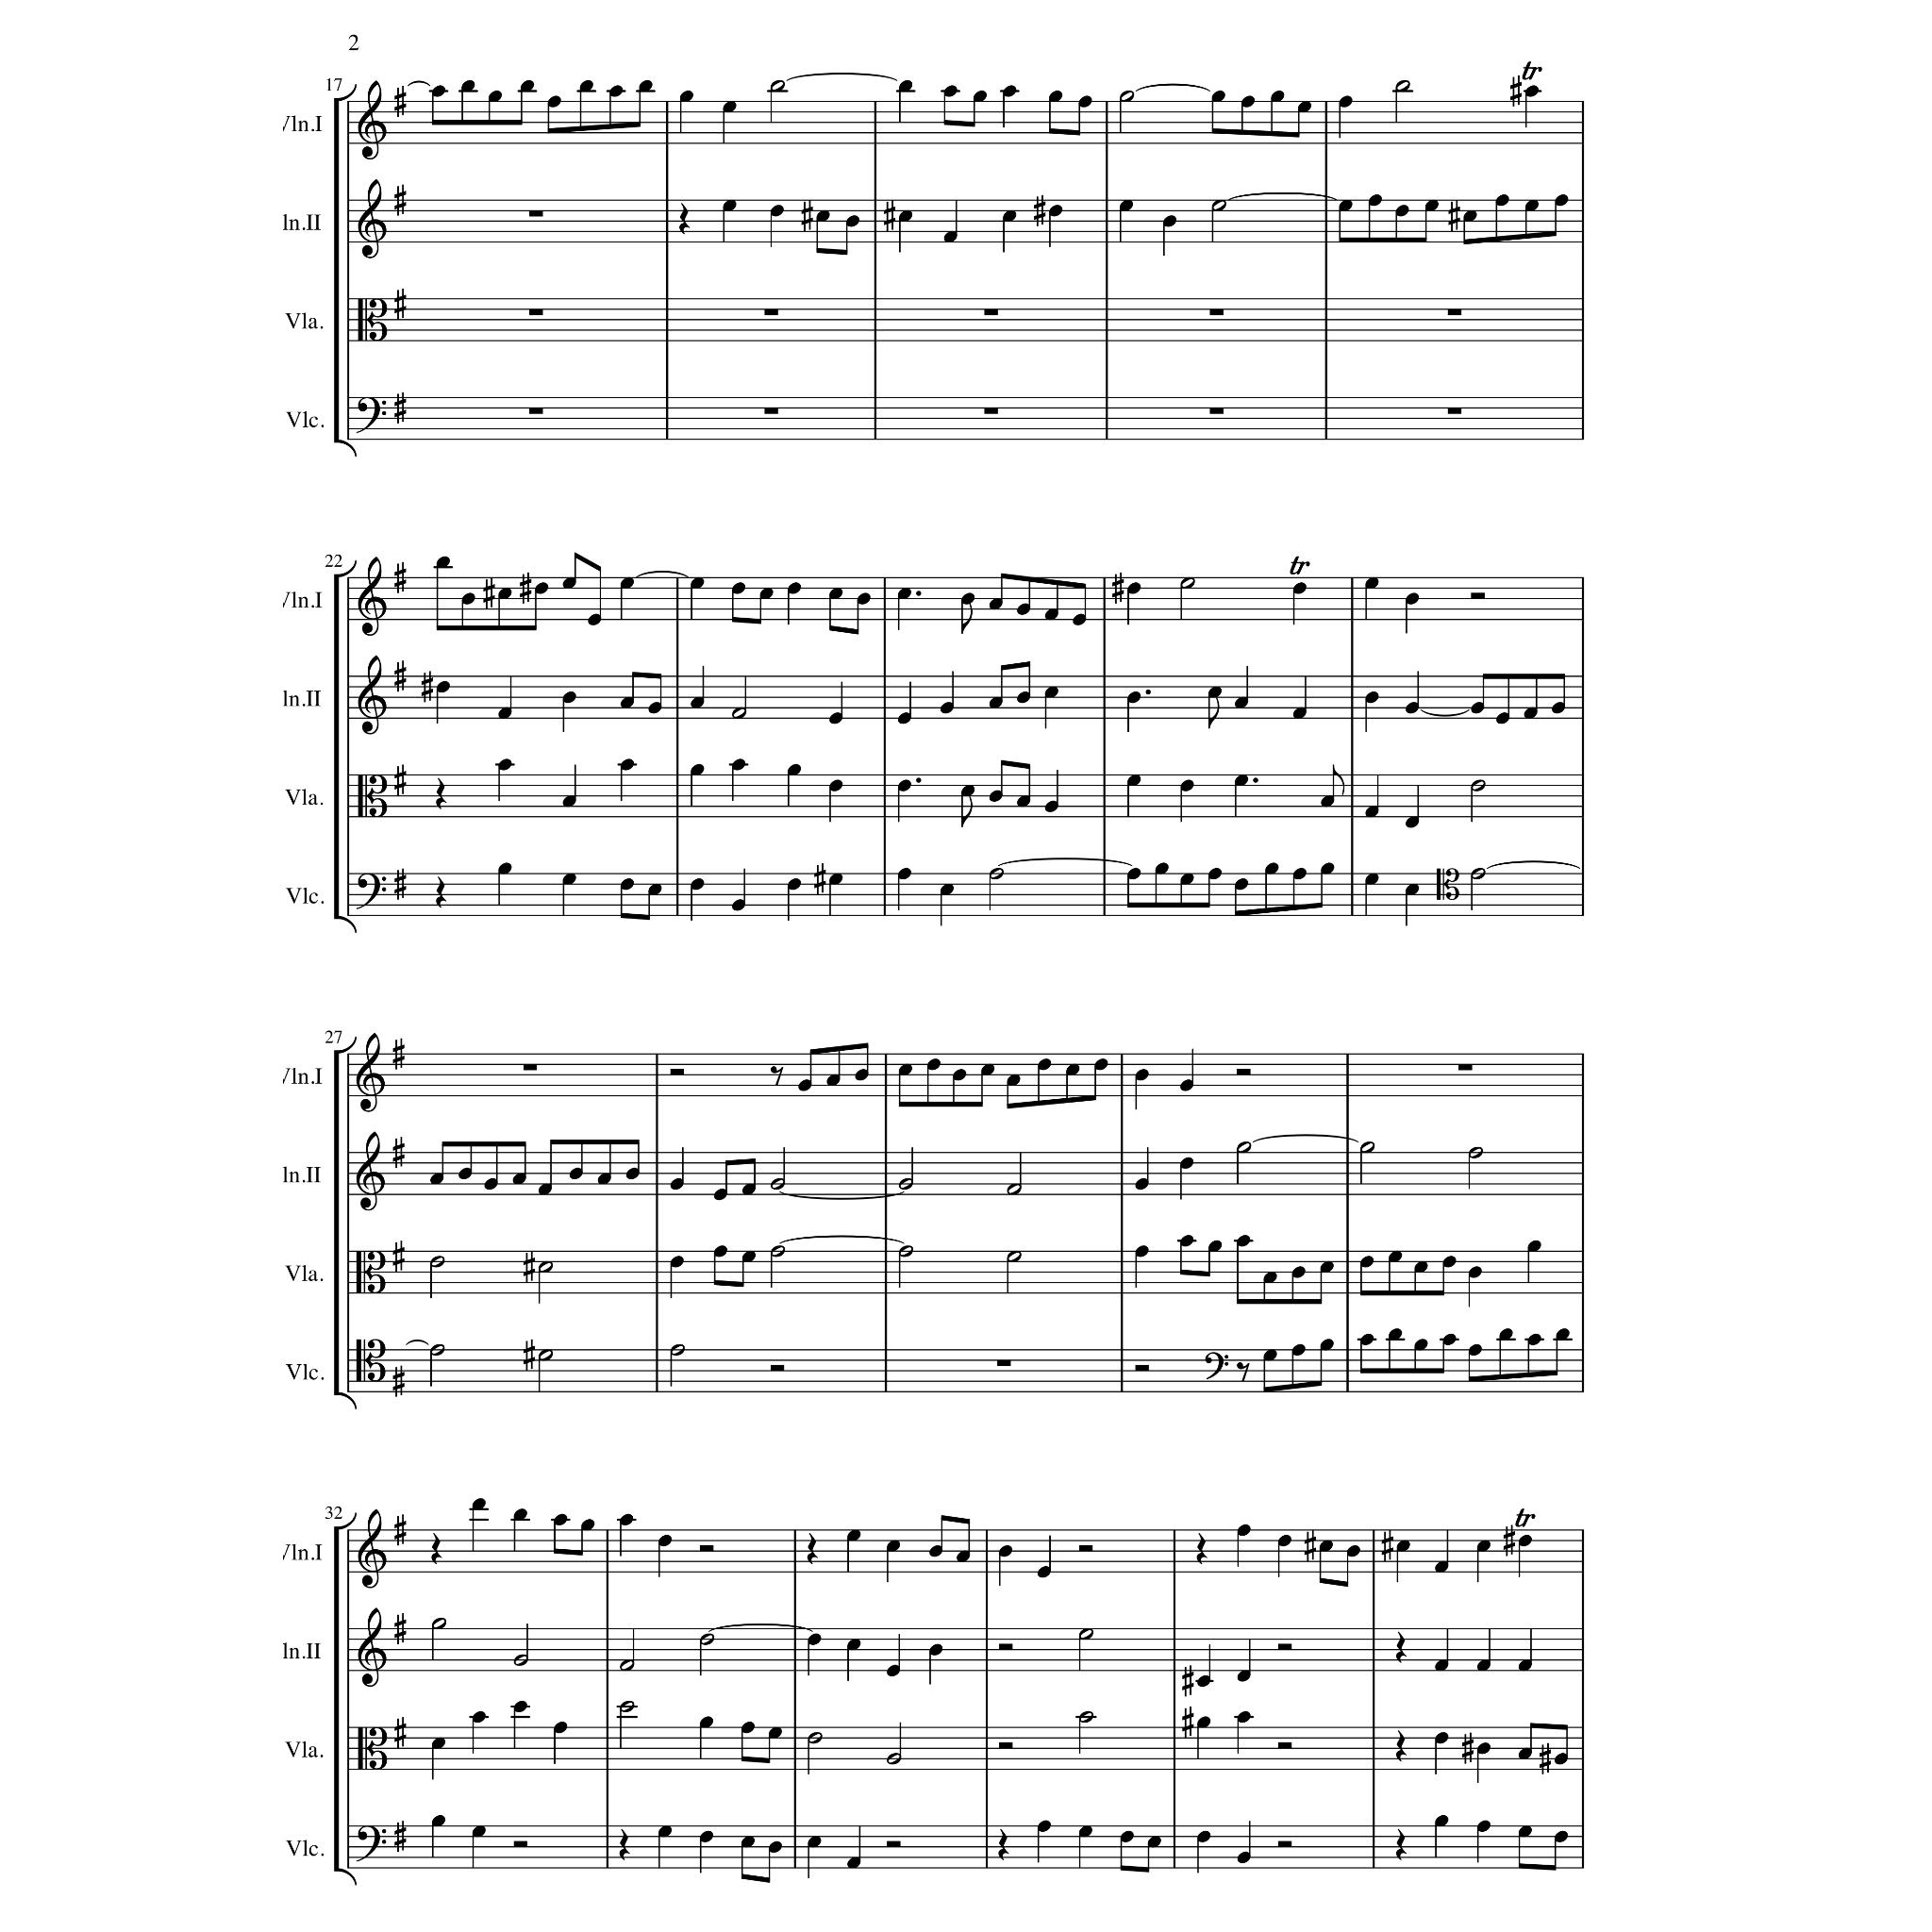fClef: (355, 396, 387, 434), (355, 874, 387, 909), (355, 1826, 387, 1862)
flag8thDown: (961, 796, 973, 828), (1208, 698, 1220, 728), (961, 604, 973, 634)
flag8thUp: (1332, 764, 1345, 796)
gClef: (357, 655, 387, 736), (355, 1032, 385, 1113), (355, 1130, 385, 1211), (357, 179, 387, 258), (357, 81, 387, 160), (357, 557, 387, 636), (357, 1607, 387, 1687), (357, 1509, 387, 1589)
noteheadBlack: (1338, 199, 1353, 212), (1162, 215, 1177, 228), (1424, 199, 1440, 212), (1494, 194, 1509, 208), (1462, 209, 1477, 223), (638, 79, 653, 92), (460, 79, 475, 92), (430, 85, 445, 98), (1002, 209, 1017, 223), (1002, 85, 1017, 98), (815, 209, 830, 223), (1179, 779, 1194, 792), (1234, 696, 1249, 709), (1234, 774, 1249, 787), (1179, 873, 1194, 886), (1043, 608, 1058, 622), (1126, 582, 1141, 595), (1126, 774, 1141, 787), (1043, 800, 1058, 813), (1072, 613, 1087, 626), (1470, 702, 1485, 715), (1551, 702, 1566, 715), (1364, 806, 1379, 819), (1364, 873, 1379, 886), (1264, 862, 1279, 875), (587, 613, 602, 626), (619, 696, 634, 709), (619, 758, 634, 772), (534, 582, 549, 595), (647, 702, 662, 715), (647, 883, 662, 896), (460, 592, 475, 606), (828, 873, 843, 886), (940, 702, 955, 715), (940, 883, 955, 896), (730, 582, 745, 595), (730, 758, 745, 772), (730, 899, 745, 912), (828, 779, 843, 792), (787, 582, 802, 595), (758, 587, 774, 600), (828, 712, 843, 725), (828, 587, 843, 600), (1319, 1260, 1334, 1274), (1262, 1349, 1277, 1362), (1291, 1266, 1306, 1279), (1291, 1343, 1306, 1357), (1134, 1245, 1149, 1258), (1134, 1177, 1149, 1191), (1134, 1068, 1149, 1081), (1207, 1240, 1223, 1253), (1526, 1240, 1541, 1253), (1555, 1328, 1570, 1341), (1498, 1328, 1513, 1341), (1441, 1255, 1457, 1268), (1413, 1260, 1428, 1274), (483, 1177, 498, 1191), (538, 1183, 553, 1196), (1006, 1074, 1021, 1087), (926, 1058, 941, 1072), (741, 1183, 757, 1196), (1236, 1670, 1251, 1683), (1236, 1851, 1251, 1864), (1077, 1824, 1092, 1838), (1196, 1830, 1211, 1843), (1119, 1830, 1134, 1843), (1553, 1753, 1568, 1766), (1553, 1830, 1568, 1843), (1517, 1534, 1532, 1547), (1517, 1747, 1532, 1760), (1517, 1824, 1532, 1838), (1475, 1540, 1491, 1553), (1475, 1741, 1491, 1755), (1434, 1560, 1449, 1574), (1434, 1814, 1449, 1827), (619, 1513, 634, 1526), (553, 1513, 568, 1526), (553, 1721, 568, 1734), (698, 1830, 713, 1843), (430, 1814, 445, 1827), (928, 1643, 943, 1657), (1119, 199, 1132, 212), (1555, 194, 1568, 208), (1368, 194, 1381, 208), (1524, 199, 1538, 212), (1524, 85, 1538, 98), (609, 85, 623, 98), (579, 79, 592, 92), (521, 79, 534, 92), (898, 209, 911, 223), (898, 79, 911, 92), (943, 230, 957, 243), (943, 85, 957, 98), (723, 199, 736, 212), (845, 215, 858, 228), (1155, 862, 1168, 875), (989, 598, 1002, 611), (989, 696, 1002, 709), (1496, 712, 1509, 725), (1321, 862, 1334, 875), (1292, 582, 1306, 595), (1406, 592, 1419, 606), (1406, 702, 1419, 715), (1406, 883, 1419, 896), (562, 873, 575, 886), (691, 696, 704, 709), (436, 556, 449, 569), (498, 587, 511, 600), (498, 758, 511, 772), (498, 862, 511, 875), (898, 587, 911, 600), (898, 712, 911, 725), (898, 779, 911, 792), (857, 592, 870, 606), (960, 592, 974, 606), (960, 785, 974, 798), (1094, 1058, 1108, 1072), (1179, 1079, 1192, 1092), (1179, 1157, 1192, 1170), (1468, 1343, 1481, 1357), (1360, 1255, 1374, 1268), (1389, 1328, 1402, 1341), (1468, 1266, 1481, 1279), (670, 1177, 683, 1191), (670, 1255, 683, 1268), (1038, 1058, 1051, 1072), (713, 1188, 726, 1201), (855, 1068, 868, 1081), (953, 1068, 966, 1081), (713, 1245, 726, 1258), (826, 1074, 840, 1087), (798, 1079, 811, 1092), (1319, 1540, 1332, 1553), (1277, 1534, 1291, 1547), (1038, 1566, 1051, 1579), (1396, 1540, 1409, 1553), (581, 1519, 594, 1532), (658, 1534, 672, 1547), (658, 1824, 672, 1838), (513, 1508, 526, 1522), (513, 1700, 526, 1713), (472, 1497, 485, 1510), (472, 1824, 485, 1838), (887, 1540, 900, 1553), (887, 1664, 900, 1677), (847, 1638, 860, 1651), (847, 1857, 860, 1870), (768, 1726, 781, 1740), (741, 1721, 755, 1734), (1270, 91, 1285, 102), (1338, 96, 1353, 108), (1077, 96, 1092, 108), (1394, 206, 1409, 217), (679, 91, 694, 102), (1234, 879, 1249, 891), (1207, 687, 1223, 698), (1207, 868, 1223, 879), (1126, 692, 1141, 704), (1126, 868, 1141, 879), (1043, 687, 1058, 698), (1523, 708, 1538, 719), (1364, 577, 1379, 589), (1364, 692, 1379, 704), (619, 577, 634, 589), (619, 879, 634, 891), (787, 879, 802, 891), (787, 764, 802, 775), (1236, 1236, 1251, 1247), (1319, 1340, 1334, 1351), (1262, 1272, 1277, 1283), (1526, 1334, 1541, 1345), (1441, 1334, 1457, 1345), (1413, 1340, 1428, 1351), (596, 1174, 611, 1185), (568, 1168, 583, 1179), (625, 1168, 640, 1179), (511, 1174, 526, 1185), (741, 1251, 757, 1262), (1236, 1711, 1251, 1723), (1236, 1524, 1251, 1536), (1196, 1675, 1211, 1687), (1196, 1717, 1211, 1728), (1517, 1660, 1532, 1672), (1345, 1545, 1360, 1557), (1475, 1660, 1491, 1672), (1475, 1821, 1491, 1832), (1434, 1660, 1449, 1672), (1434, 1732, 1449, 1743), (698, 1717, 713, 1728), (430, 1738, 445, 1749), (998, 1545, 1013, 1557), (928, 1545, 943, 1557), (1298, 102, 1311, 113), (1241, 96, 1255, 108), (1049, 91, 1062, 102), (1049, 206, 1062, 217), (1211, 91, 1224, 102), (547, 96, 560, 108), (489, 91, 502, 102), (974, 91, 987, 102), (770, 206, 783, 217), (723, 102, 736, 113), (1017, 604, 1030, 615), (1017, 692, 1030, 704), (1017, 796, 1030, 808), (989, 791, 1002, 802), (1321, 796, 1334, 808), (1292, 708, 1306, 719), (1292, 868, 1306, 879), (1406, 817, 1419, 828), (562, 577, 575, 589), (562, 692, 575, 704), (562, 796, 575, 808), (691, 577, 704, 589), (691, 764, 704, 775), (691, 879, 704, 891), (436, 681, 449, 692), (498, 708, 511, 719), (898, 868, 911, 879), (1066, 1064, 1079, 1075), (1179, 1236, 1192, 1247), (1389, 1251, 1402, 1262), (1360, 1334, 1374, 1345), (458, 1168, 472, 1179), (430, 1174, 443, 1185), (981, 1064, 994, 1075), (898, 1064, 911, 1075), (1038, 1821, 1051, 1832), (1147, 1836, 1160, 1847), (472, 1711, 485, 1723), (847, 1530, 860, 1541), (957, 1551, 970, 1562), (768, 1841, 781, 1853), (741, 1836, 755, 1847), (808, 1836, 821, 1847), (808, 1634, 821, 1645)
noteheadHalf: (1395, 79, 1410, 92), (770, 79, 785, 92), (1471, 779, 1486, 792), (1236, 1141, 1251, 1155), (1359, 1141, 1374, 1155), (538, 1349, 553, 1362), (670, 1343, 685, 1357), (538, 1260, 553, 1274), (429, 1255, 444, 1268), (429, 1343, 444, 1357), (898, 1245, 913, 1258), (898, 1177, 913, 1191), (1007, 1183, 1022, 1196), (770, 1177, 785, 1191), (770, 1245, 785, 1258), (1078, 1628, 1093, 1641), (619, 1700, 634, 1713), (431, 1617, 446, 1630), (886, 1753, 901, 1766), (1119, 91, 1134, 102), (1211, 200, 1226, 211), (1179, 577, 1194, 589), (989, 868, 1004, 879), (1471, 868, 1486, 879), (731, 708, 746, 719), (1468, 1147, 1483, 1158), (1007, 1251, 1022, 1262), (1078, 1711, 1093, 1723), (619, 1660, 634, 1672), (699, 1634, 714, 1645), (513, 1655, 528, 1666), (807, 1732, 822, 1743)
rest8th: (1236, 1362, 1249, 1383), (770, 1066, 783, 1087)
restHalf: (1470, 592, 1485, 600), (1134, 1364, 1149, 1372), (770, 1364, 785, 1372), (1277, 1741, 1292, 1749), (1277, 1643, 1292, 1651), (998, 1643, 1013, 1651), (998, 1741, 1013, 1749), (1236, 1070, 1251, 1075), (1277, 1841, 1292, 1847), (1077, 1545, 1092, 1551), (699, 1545, 714, 1551), (670, 1070, 683, 1075), (513, 1841, 526, 1847), (887, 1841, 900, 1847)
restQuarter: (677, 203, 691, 235), (435, 778, 446, 810), (435, 876, 446, 908), (1196, 1533, 1207, 1565), (1395, 1631, 1407, 1663), (1395, 1730, 1407, 1762), (1395, 1828, 1407, 1860), (619, 1828, 630, 1860), (431, 1533, 442, 1565), (997, 1828, 1008, 1860), (807, 1533, 818, 1565)
restWhole: (763, 408, 778, 415), (983, 408, 998, 415), (1208, 408, 1224, 415), (1447, 408, 1462, 415), (528, 408, 543, 415), (523, 1064, 538, 1072), (1457, 1064, 1473, 1072), (763, 309, 778, 315), (983, 309, 998, 315), (1208, 309, 1224, 315), (1447, 309, 1462, 315), (528, 309, 543, 315), (528, 211, 543, 217), (996, 1360, 1011, 1366)
